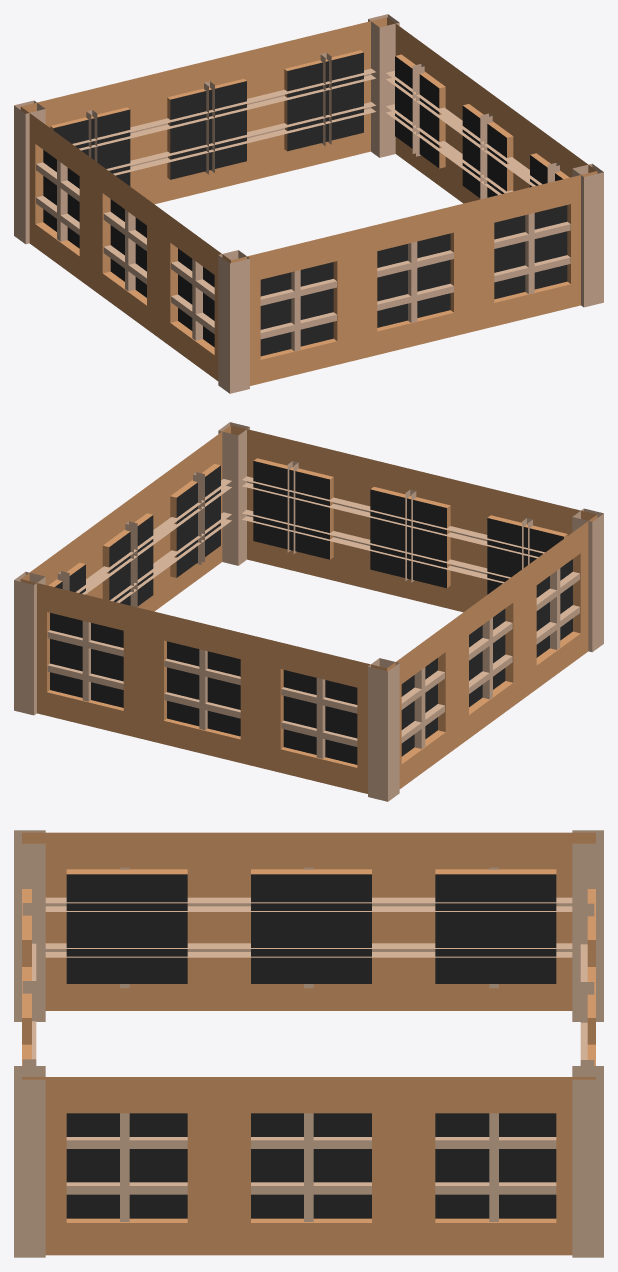
Rendered from SkyScraper2_Middle_02.fbx.
The picture shows the model from 3 angles, top to bottom: view 1: azimuth 30°, elevation 25°; view 2: azimuth 150°, elevation 25°; view 3: azimuth 270°, elevation 25°; orthographic projection. The views are drawn at different scales.
Parts seen in each view (by area): view 1: SkyScraper2_Middle_02; view 2: SkyScraper2_Middle_02; view 3: SkyScraper2_Middle_02.
Part boxes in pixels (x1,y1,x2,y2): SkyScraper2_Middle_02: [14, 14, 603, 393]; SkyScraper2_Middle_02: [14, 422, 603, 801]; SkyScraper2_Middle_02: [14, 830, 603, 1257].
Size of the model in its own units: 96 by 32 by 96.
